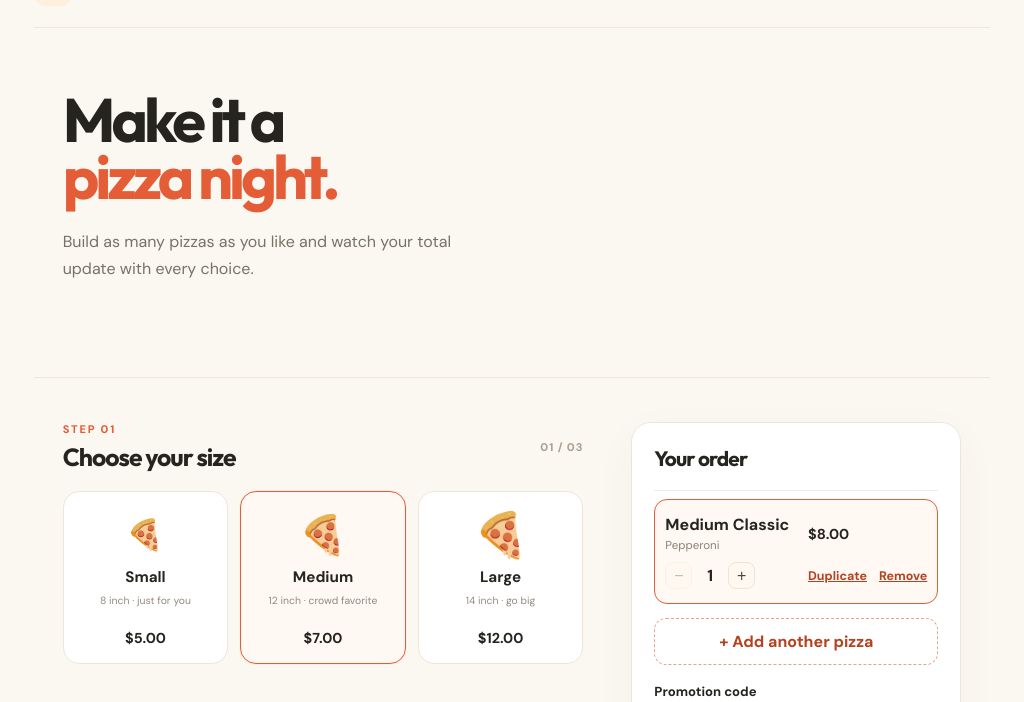
Test: UI-005: removing a pizza removes its whole contribution › reprices from the remaining pizzas only
The image size is (1024, 702).
Expected: the radio button labelled "🍕 Medium 12 inch · crowd favorite $7.00" is shown, [240,491,406,664]
Click the button "+ Add another pizza".
click(796, 642)  # box [654,618,938,665]
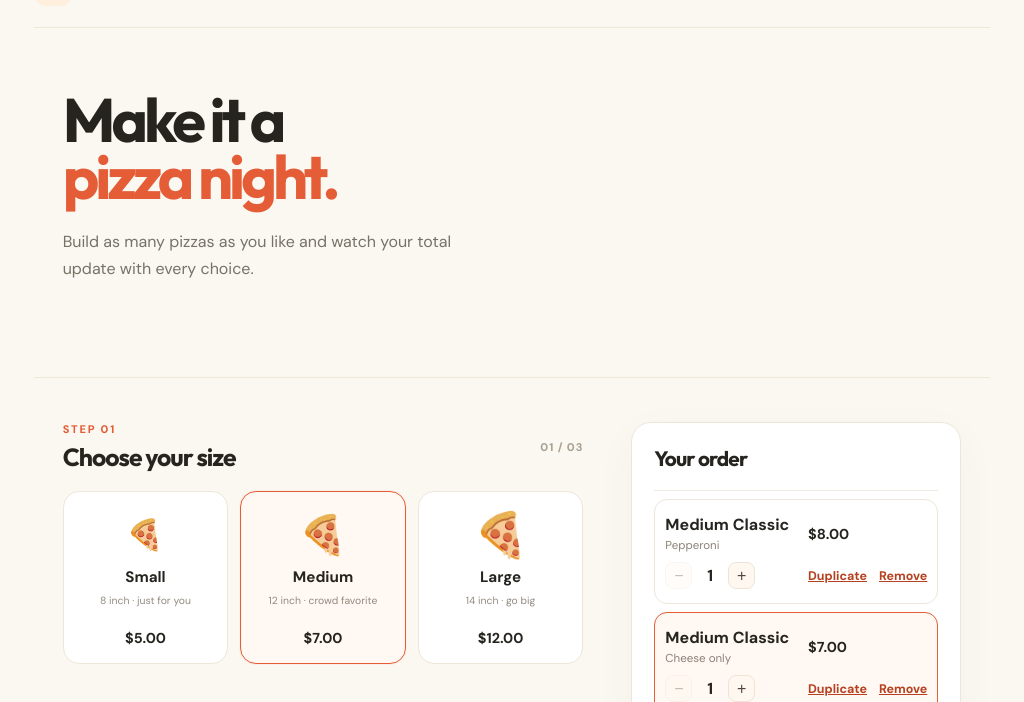
Click the radio button labelled "🍕 Large 14 inch · go big $12.00".
click(501, 578)  # box [418,491,583,664]
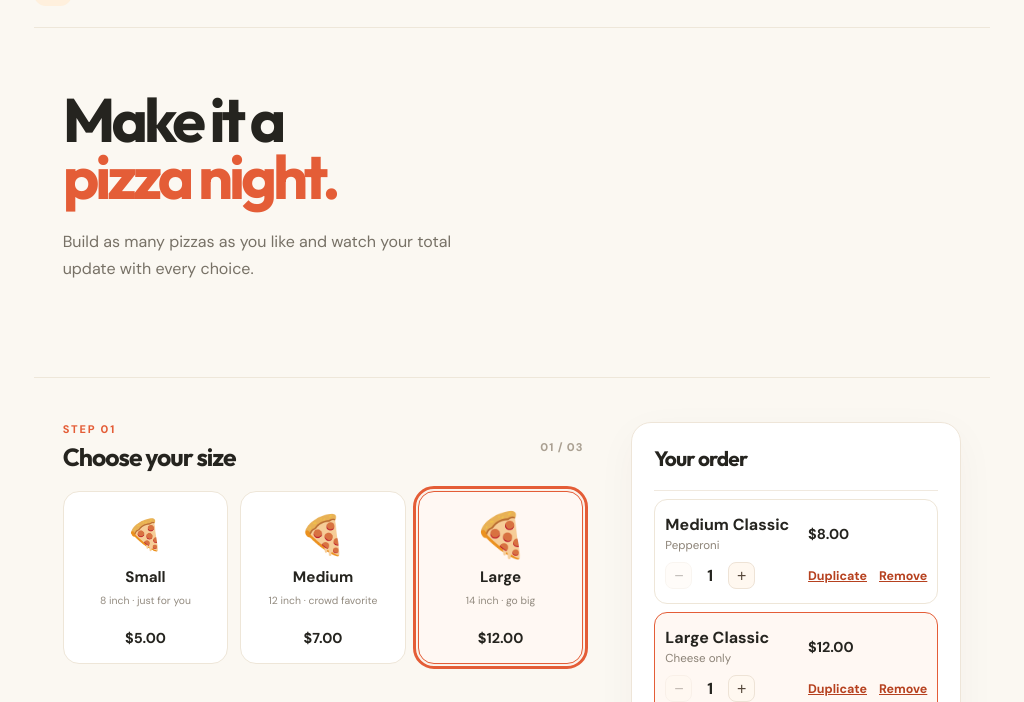
Click the button with aria-label "Remove Pizza 1: Medium Classic".
click(903, 576)  # box [879,566,927,586]
(page scrolled)
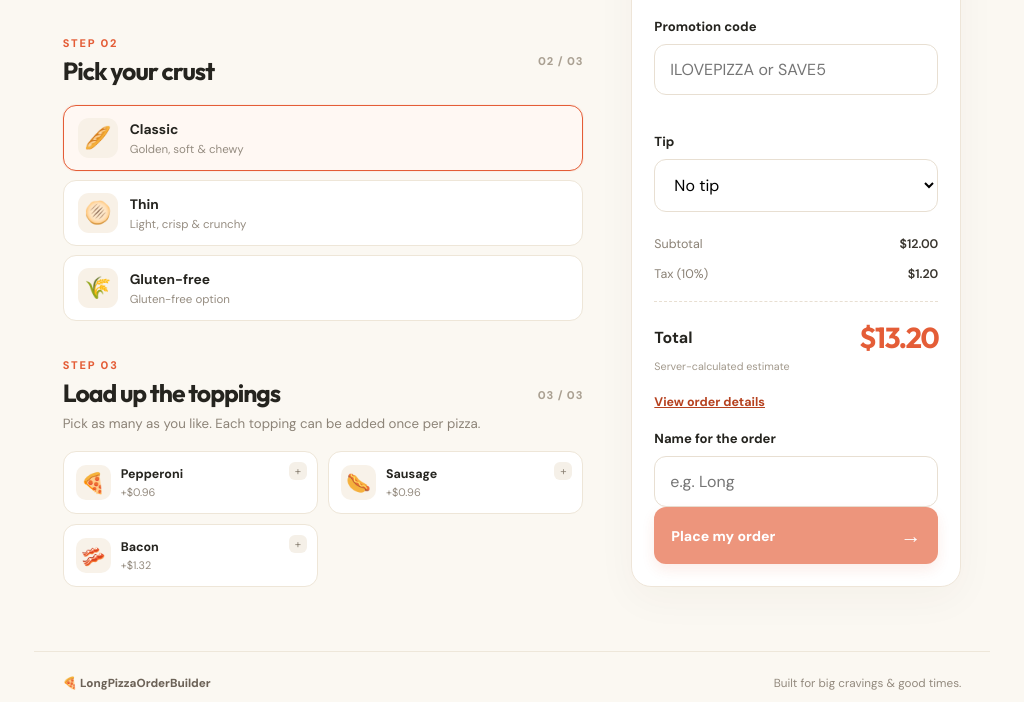
Expected: the text with test id "order-total" reads "$13.20", [859,319,938,355]
Expected: the button "Medium Classic" is gone
